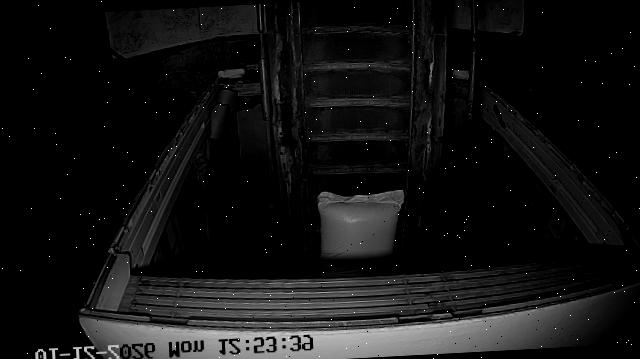bag: (317, 188, 408, 276)
